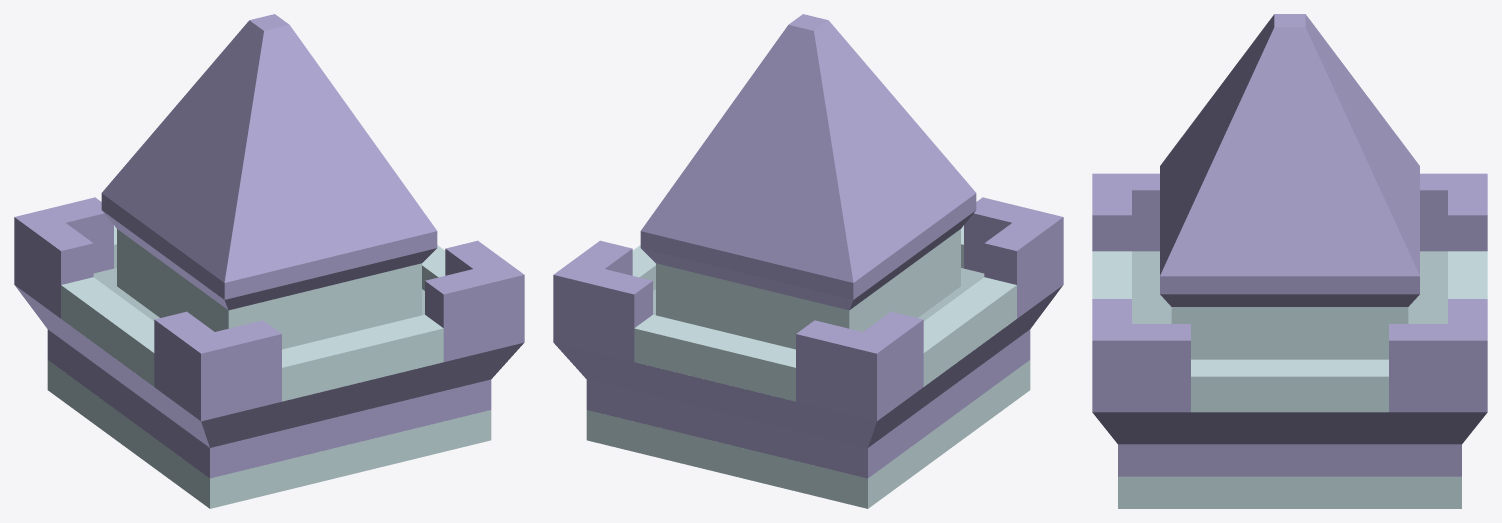
Rendered from towerSquare_roofB.glb.
3 renders of one model, left to right at view 1: azimuth 30°, elevation 25°; view 2: azimuth 150°, elevation 25°; view 3: azimuth 270°, elevation 25°, orthographic. The views are drawn at different scales.
Visible parts, largest first — view 1: towerSquare_roofB; view 2: towerSquare_roofB; view 3: towerSquare_roofB.
Part boxes in pixels (left/top/right/bottom): towerSquare_roofB: left=14, top=14, right=524, bottom=508; towerSquare_roofB: left=553, top=14, right=1063, bottom=508; towerSquare_roofB: left=1092, top=14, right=1487, bottom=508.
Bounding box in the file's own units: 1 × 1.16 × 1.
